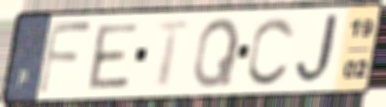C: (245, 14, 298, 88)
E: (86, 21, 141, 92)
F: (35, 19, 94, 98)
J: (293, 11, 346, 88)
Q: (190, 16, 243, 91)
T: (154, 19, 193, 89)
